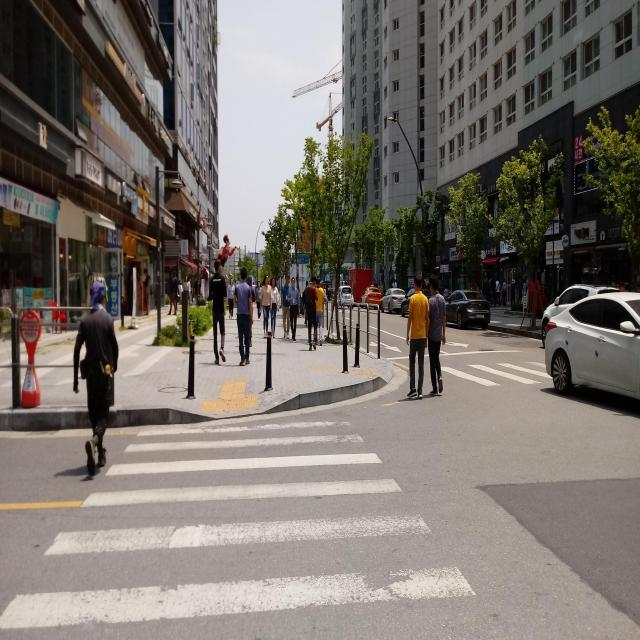횡단보도: (0, 413, 480, 636), (441, 358, 554, 392)
